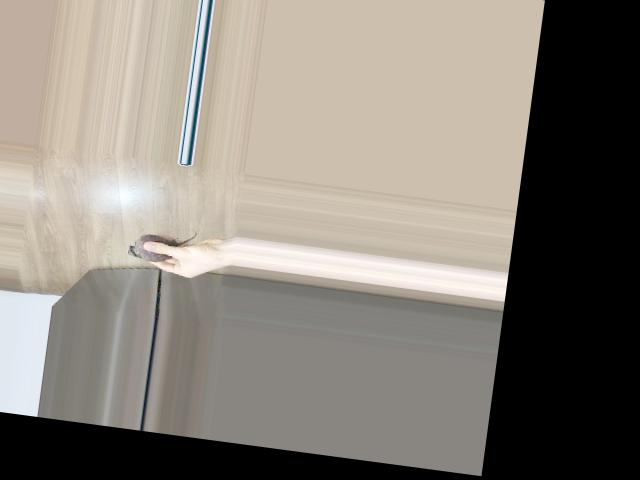beet: (126, 222, 195, 266)
